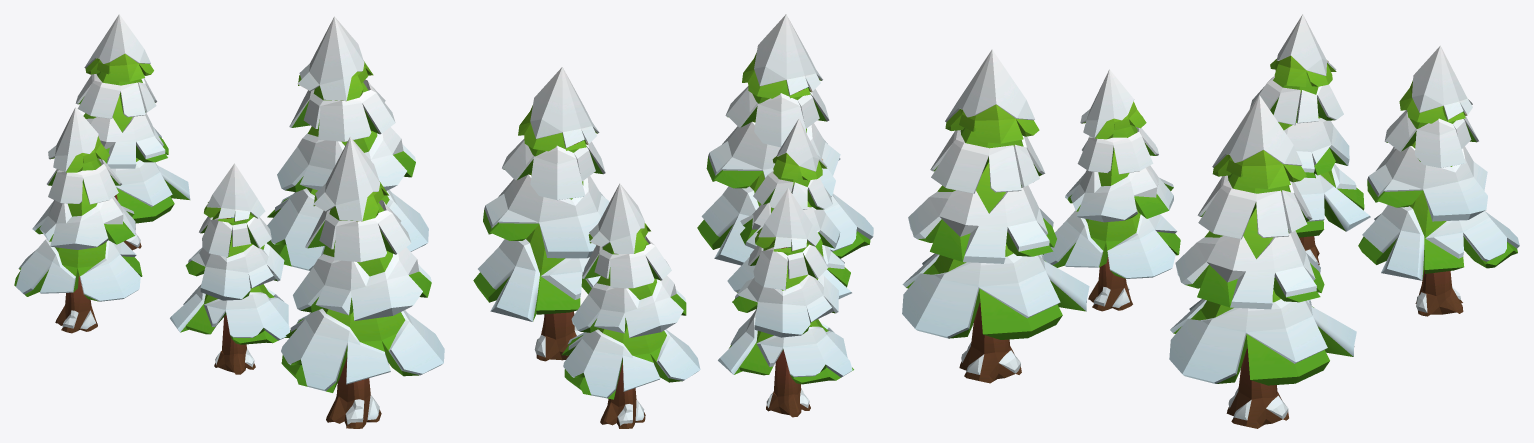
The picture shows the model from 3 angles, left to right: view 1: azimuth 30°, elevation 25°; view 2: azimuth 150°, elevation 25°; view 3: azimuth 270°, elevation 25°; orthographic projection. The views are drawn at different scales.
Visible parts, largest first — view 1: SnowyTree (9), SnowyTree (6), SnowyTree (10), SnowyTree (8), SnowyTree (7); view 2: SnowyTree (6), SnowyTree (7), SnowyTree (9), SnowyTree (10), SnowyTree (8); view 3: SnowyTree (6), SnowyTree (9), SnowyTree (7), SnowyTree (8), SnowyTree (10).
Boxes of the visible parts, <box> form: SnowyTree (9): <box>281,137,444,428</box>; SnowyTree (6): <box>267,16,428,270</box>; SnowyTree (10): <box>14,107,142,333</box>; SnowyTree (8): <box>170,163,290,374</box>; SnowyTree (7): <box>75,14,190,250</box>; SnowyTree (6): <box>473,67,609,361</box>; SnowyTree (7): <box>562,183,700,428</box>; SnowyTree (9): <box>697,14,873,265</box>; SnowyTree (10): <box>718,188,853,417</box>; SnowyTree (8): <box>727,118,851,298</box>; SnowyTree (6): <box>1169,95,1356,428</box>; SnowyTree (9): <box>902,49,1089,383</box>; SnowyTree (7): <box>1358,45,1519,316</box>; SnowyTree (8): <box>1043,69,1180,311</box>; SnowyTree (10): <box>1250,14,1370,265</box>.
Bounding box in the file's own units: 538 × 400 × 677.
1 material, 1 textured.
